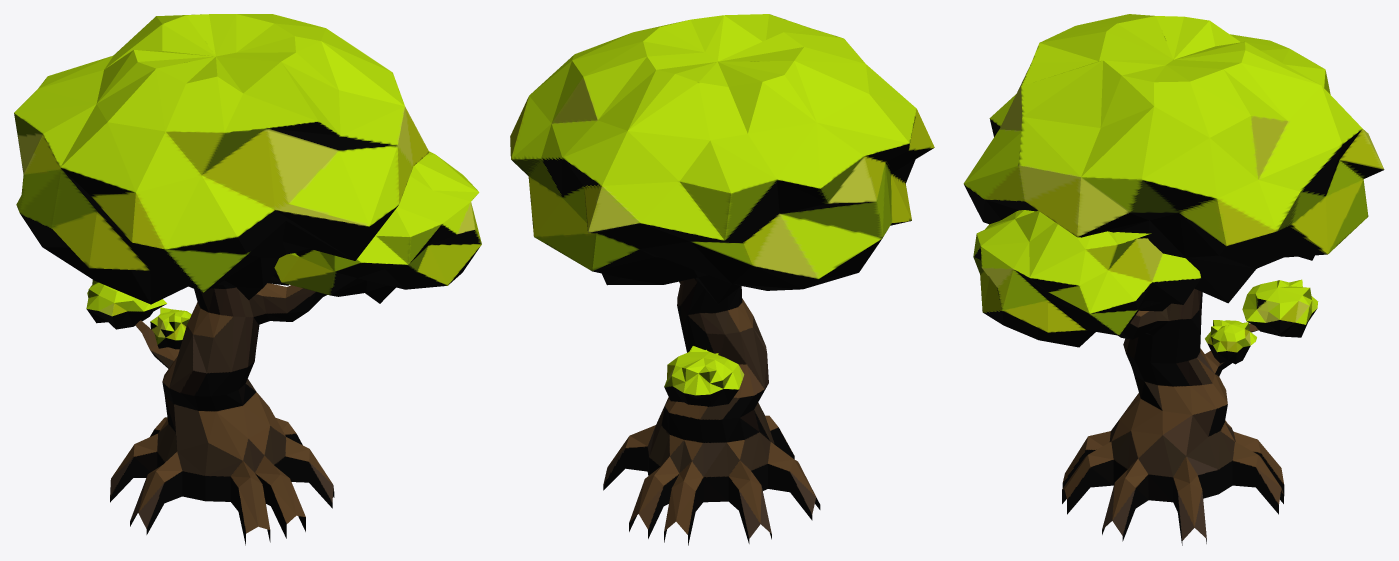
File: lowpoly tree (1).fbx
3 views of the same model, side by side, from view 1: azimuth 30°, elevation 25°; view 2: azimuth 150°, elevation 25°; view 3: azimuth 270°, elevation 25° (orthographic).
Visible parts, largest first — view 1: Sphere.004; view 2: Sphere.004; view 3: Sphere.004.
Part boxes in pixels (left/top/right/bottom): Sphere.004: left=14, top=14, right=481, bottom=545; Sphere.004: left=510, top=14, right=934, bottom=545; Sphere.004: left=963, top=14, right=1384, bottom=545.
Bounding box in the file's own units: 1174 × 1319 × 1115.
